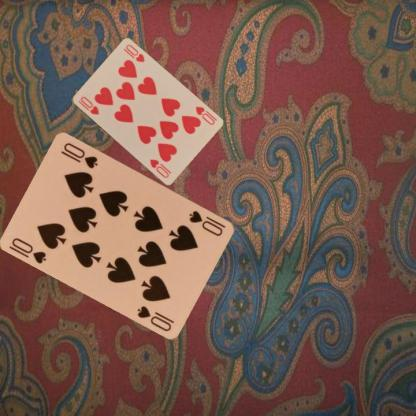10h: (192, 103, 216, 126), (76, 94, 100, 116)
10s: (187, 208, 227, 238), (9, 235, 48, 265)
